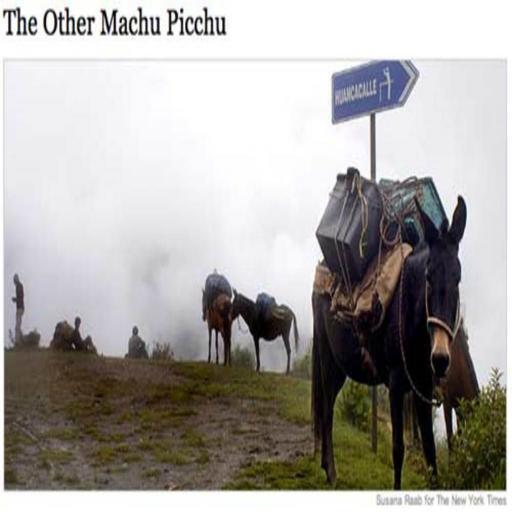horse: (229, 285, 301, 377), (202, 283, 236, 375)
